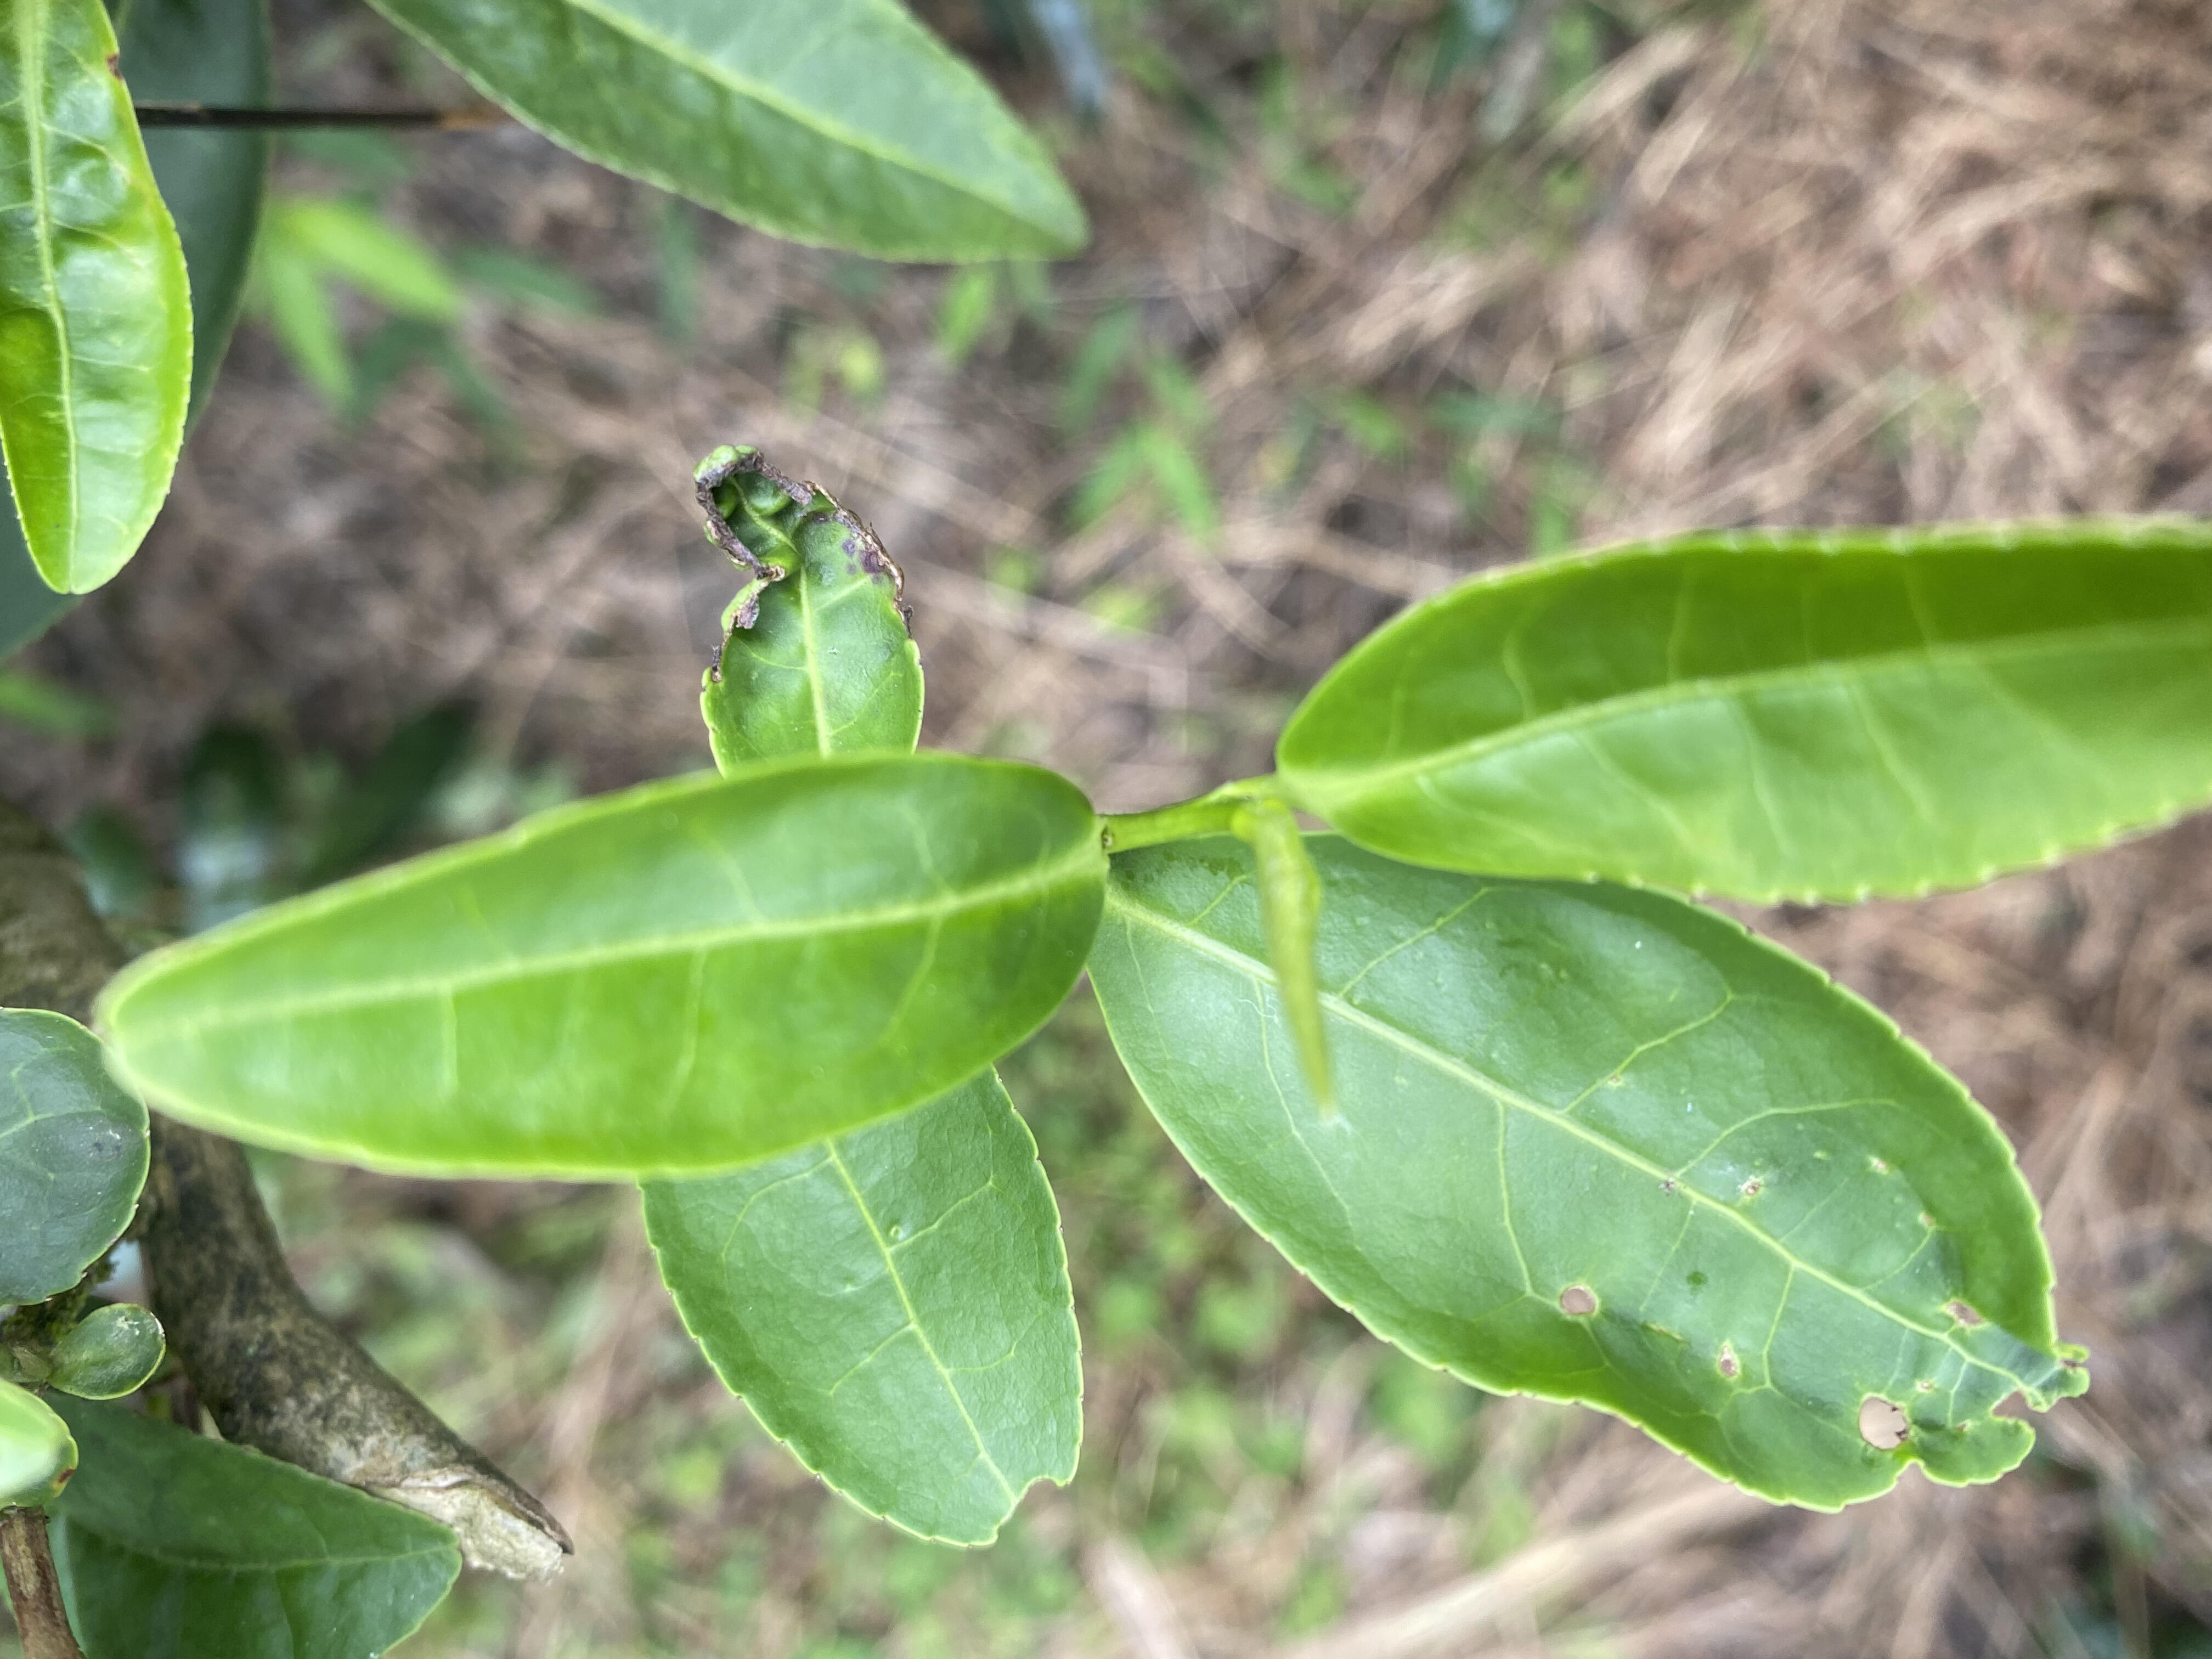chihuo_high: (1089, 828, 2094, 1516)
chihuo_low: (634, 1068, 1083, 1546)
healthy: (94, 751, 1106, 1182), (1282, 521, 2212, 908)
tanju_high: (690, 444, 932, 770)
tanju_low: (3, 2, 193, 596)
